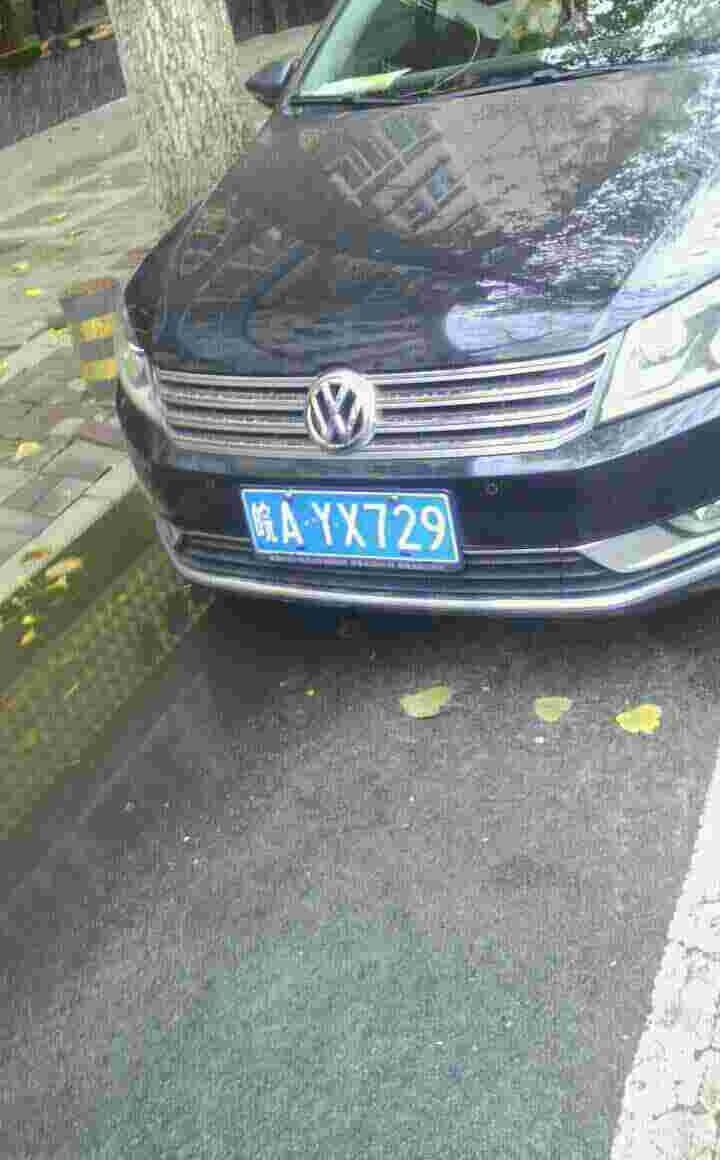license_plate: (250, 485, 462, 564)
